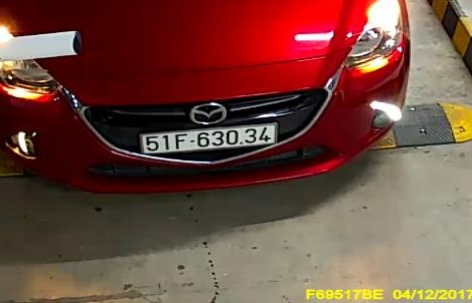plate: (132, 121, 280, 157)
